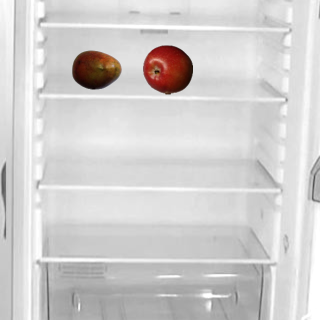Apple Braeburn: (142, 44, 192, 94)
Mango Red: (71, 44, 121, 94)
